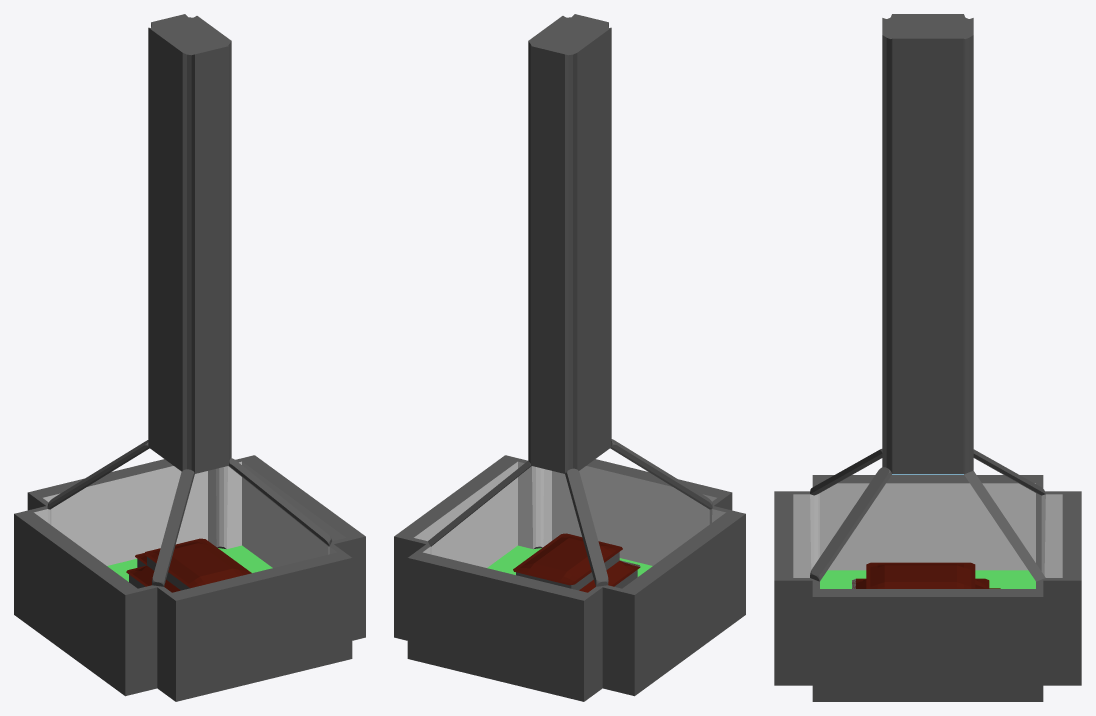
The model's file is wave_map_2.glb.
The picture shows the model from 3 angles, left to right: view 1: azimuth 30°, elevation 25°; view 2: azimuth 150°, elevation 25°; view 3: azimuth 270°, elevation 25°; orthographic projection. The views are drawn at different scales.
Visible parts, largest first — view 1: house; view 2: house; view 3: house.
Part boxes in pixels (x1,y1,x2,y2): house: [14, 14, 365, 701]; house: [394, 14, 745, 701]; house: [774, 14, 1081, 701].
Size of what is drawn, in the model's own units: 15 by 35.27 by 16.
